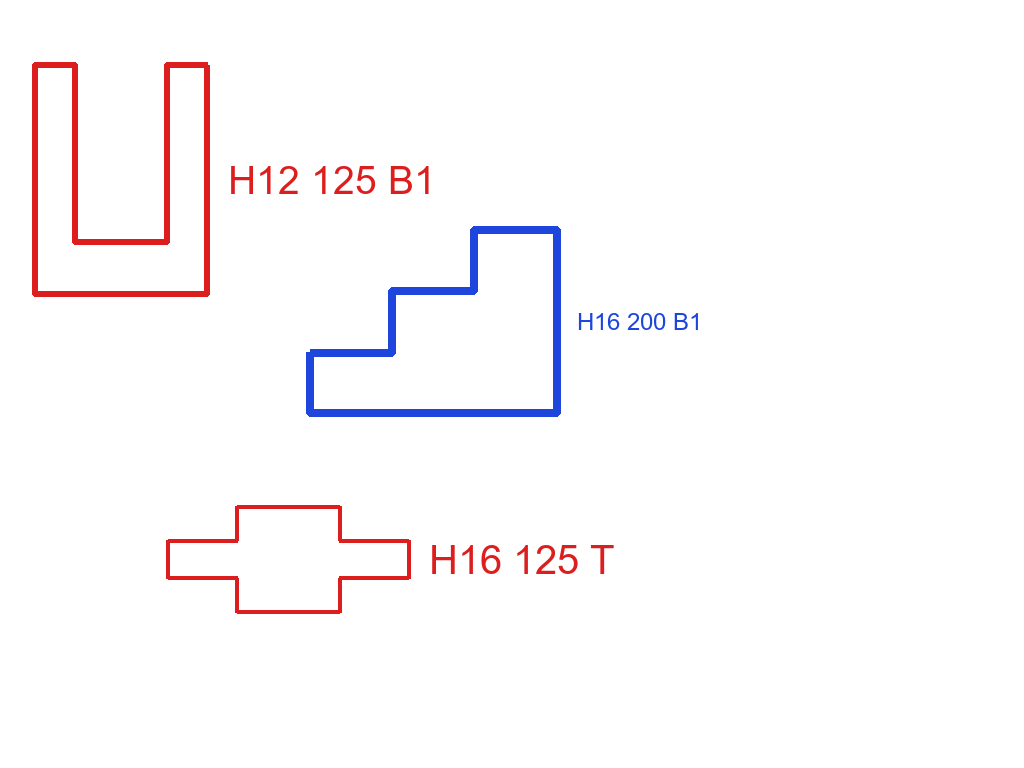shape: (304, 223, 563, 419), (29, 61, 213, 299), (164, 503, 413, 616)
text: (226, 164, 438, 196), (427, 543, 616, 576), (575, 311, 704, 332)
